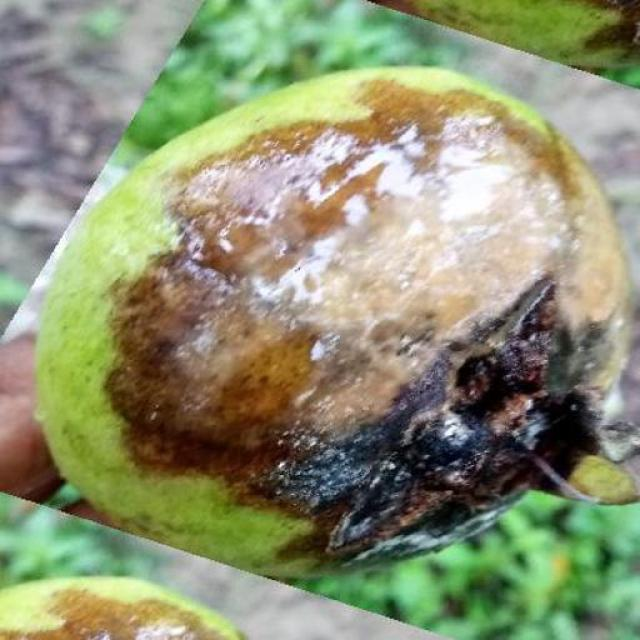Styler_Root: (36, 68, 640, 578)
